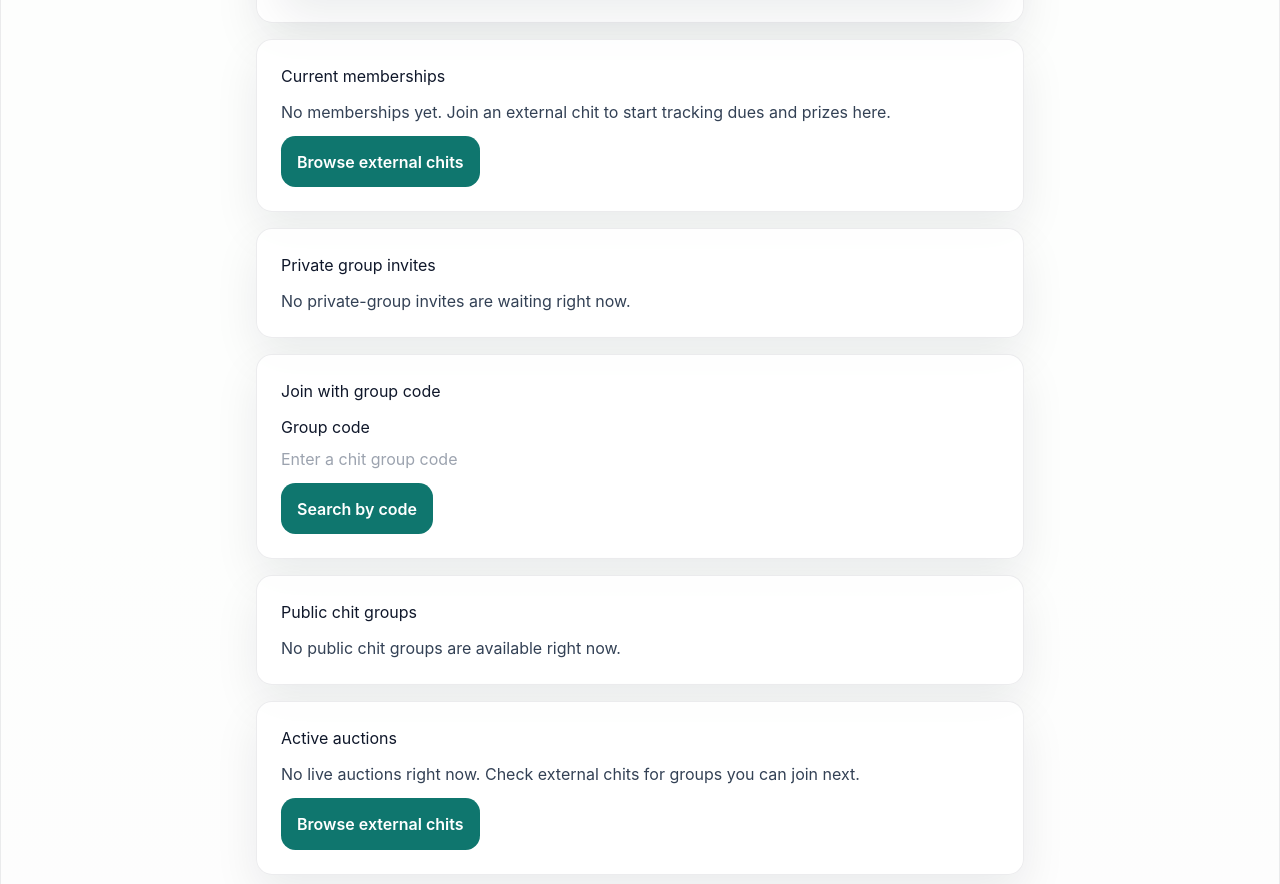
Test: lets a subscriber search by group code and request to join a matching chit
The width and height of the screenshot is (1280, 884).
(page scrolled)
Step 1. Type "JOIN-777" into the field labelled "Group code" → (640, 459), box [281,447,999,471]
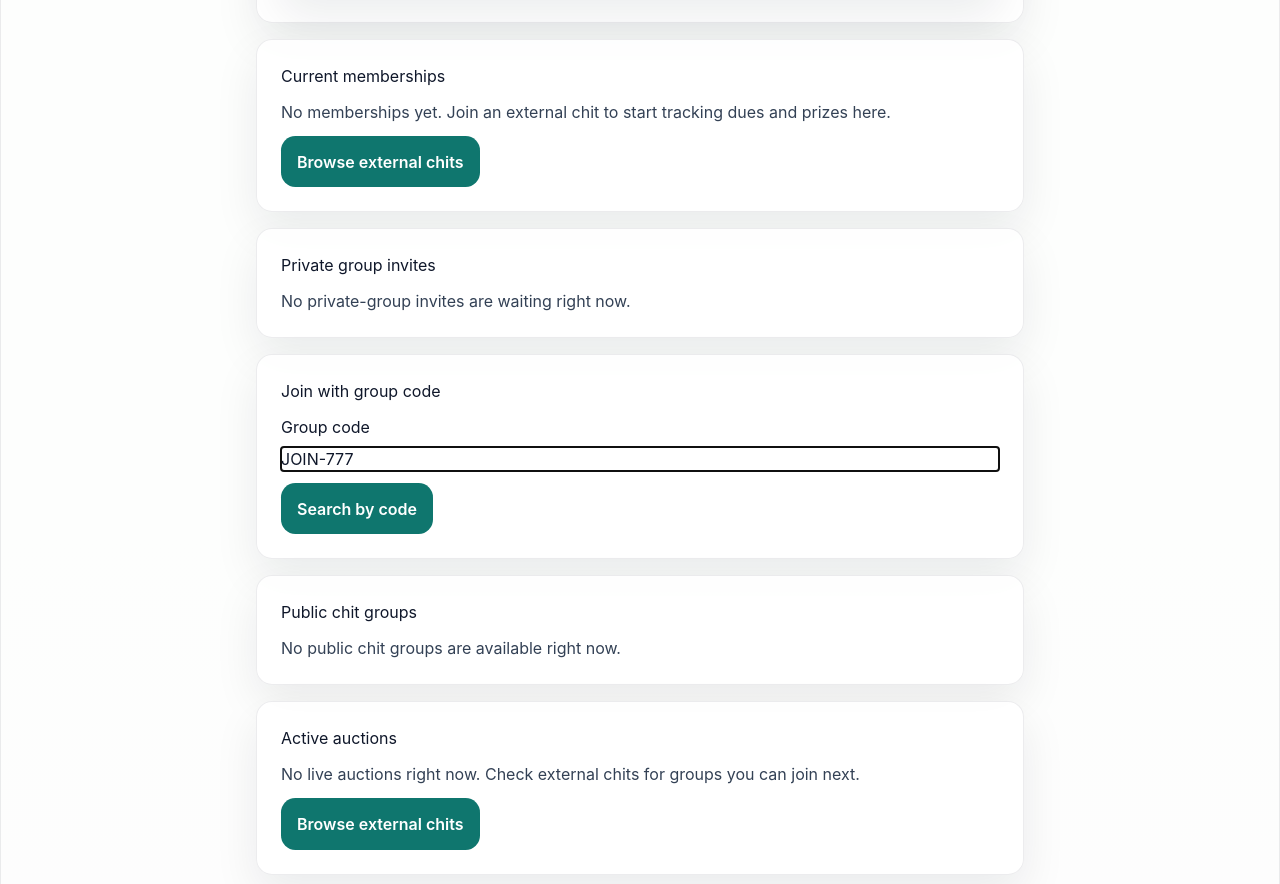
Step 2. Click the button "Search by code" → (357, 509), box [281,483,433,534]
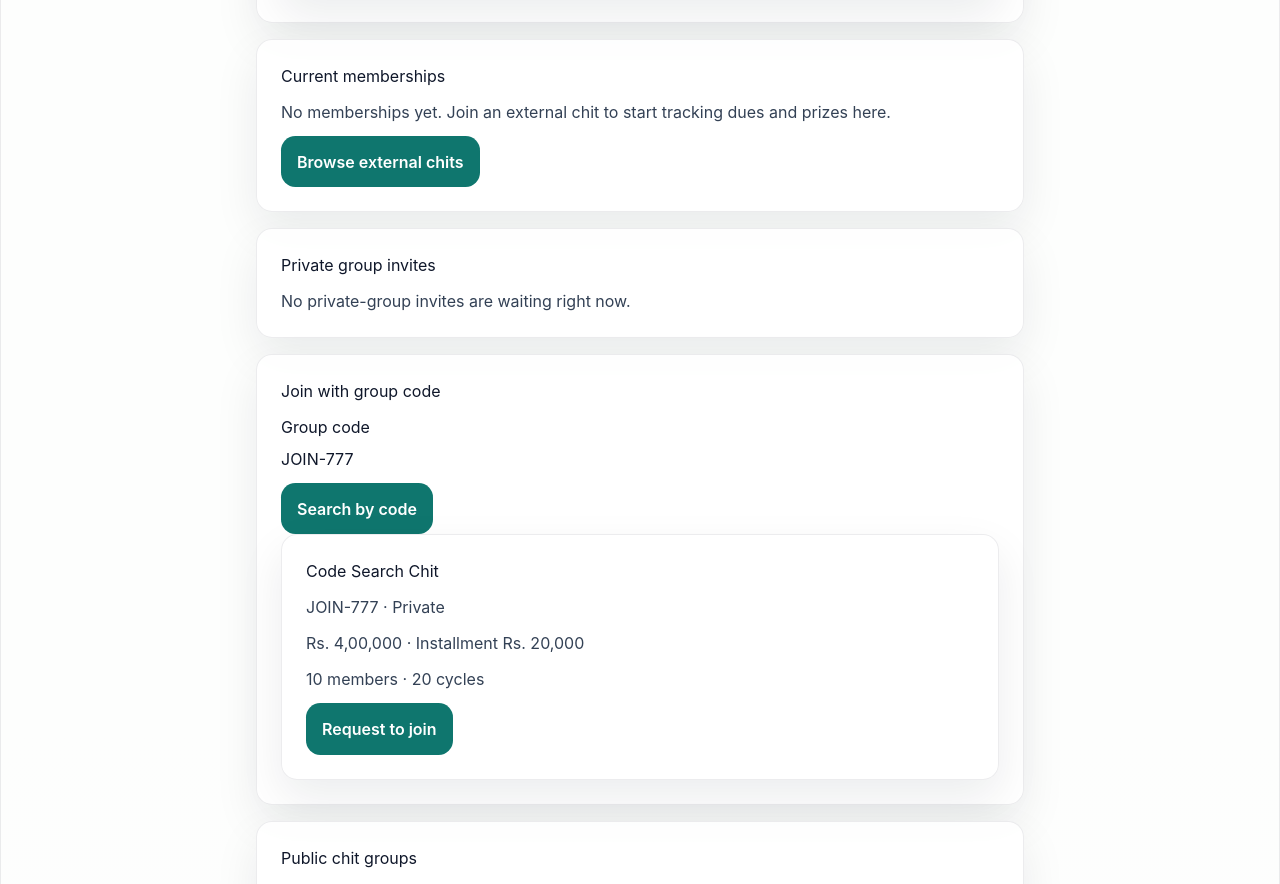
Result: the heading "Code Search Chit" is shown at [306,561,439,581]
Step 3. Click the button "Request to join" → (379, 729), box [306,703,453,754]
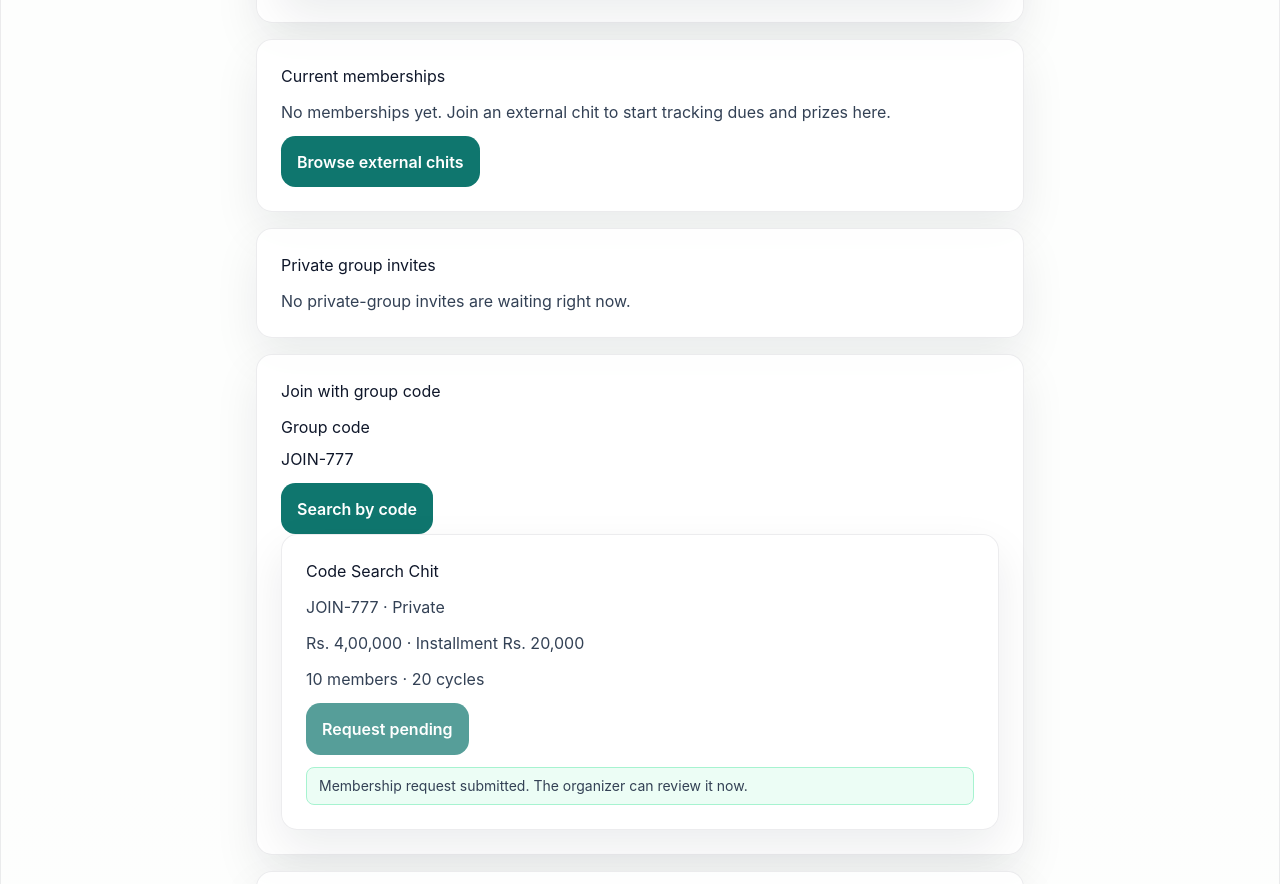
Result: the text "Membership request submitted. The organizer can review it now." is shown at [306,766,974,804]
